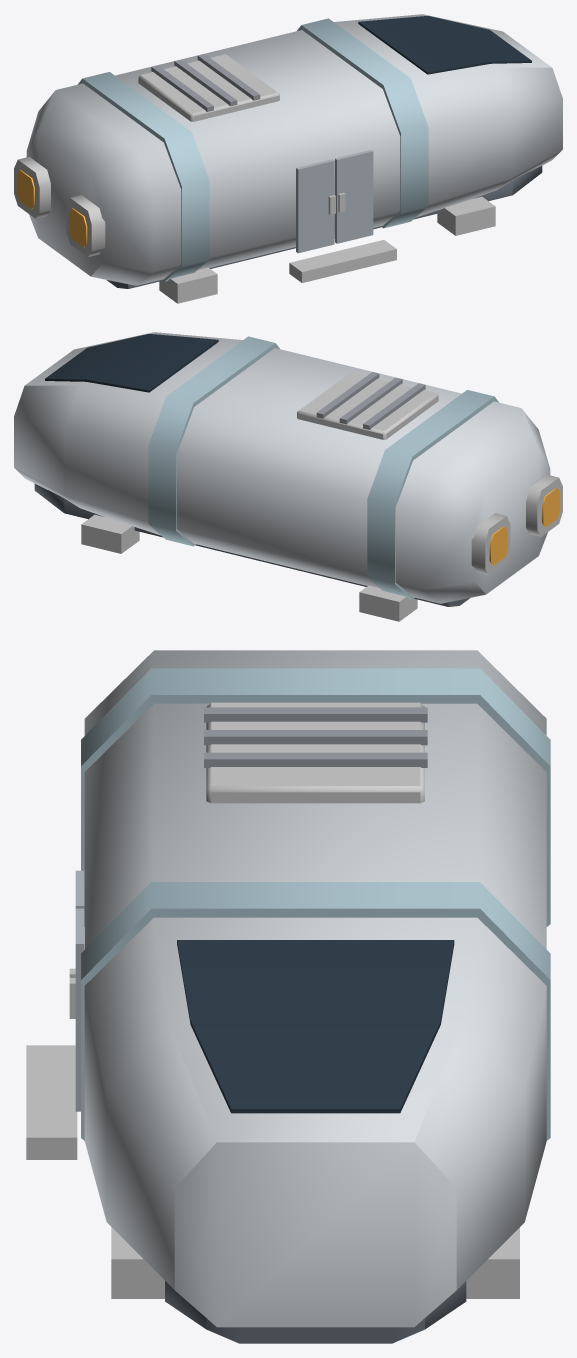
File: shuttle_imperial.obj
The picture shows the model from 3 angles, top to bottom: view 1: azimuth 30°, elevation 25°; view 2: azimuth 150°, elevation 25°; view 3: azimuth 270°, elevation 25°; orthographic projection. The views are drawn at different scales.
Parts seen in each view (by area): view 1: retained_0, retained_168, retained_140, retained_120, roof_equipment_casing, retained_244, retained_256, retained_292, retained_328, retained_304, retained_352, retained_408 (+6 smaller); view 2: retained_0, retained_168, retained_140, retained_120, roof_equipment_casing, retained_340, retained_316, retained_408, retained_352, retained_76, retained_220, retained_232 (+3 smaller); view 3: retained_0, retained_120, retained_168, retained_140, roof_equipment_casing, retained_292, retained_76, retained_208, retained_232, retained_220, retained_328, retained_340 (+1 smaller).
Boxes of the visible parts, x1=… form: retained_0: x1=26, y1=14, x2=562, y2=285; retained_168: x1=297, y1=18, x2=428, y2=228; retained_140: x1=78, y1=72, x2=209, y2=281; retained_120: x1=358, y1=16, x2=531, y2=74; roof_equipment_casing: x1=138, y1=54, x2=279, y2=121; retained_244: x1=296, y1=159, x2=334, y2=253; retained_256: x1=335, y1=150, x2=373, y2=243; retained_292: x1=289, y1=240, x2=396, y2=282; retained_328: x1=437, y1=196, x2=495, y2=235; retained_304: x1=159, y1=267, x2=217, y2=303; retained_352: x1=66, y1=195, x2=105, y2=256; retained_408: x1=14, y1=157, x2=50, y2=218; retained_0: x1=14, y1=332, x2=550, y2=603; retained_168: x1=148, y1=336, x2=279, y2=546; retained_140: x1=367, y1=390, x2=498, y2=599; retained_120: x1=45, y1=334, x2=218, y2=392; roof_equipment_casing: x1=297, y1=372, x2=438, y2=439; retained_340: x1=81, y1=514, x2=139, y2=553; retained_316: x1=359, y1=585, x2=417, y2=621; retained_408: x1=471, y1=513, x2=510, y2=574; retained_352: x1=526, y1=475, x2=562, y2=536; retained_76: x1=34, y1=484, x2=469, y2=606; retained_220: x1=339, y1=377, x2=402, y2=424; retained_232: x1=316, y1=372, x2=379, y2=418; retained_0: x1=84, y1=650, x2=546, y2=1327; retained_120: x1=177, y1=940, x2=454, y2=1113; retained_168: x1=81, y1=882, x2=550, y2=1140; retained_140: x1=81, y1=668, x2=550, y2=926; roof_equipment_casing: x1=206, y1=702, x2=424, y2=803; retained_292: x1=26, y1=1045, x2=77, y2=1159; retained_76: x1=165, y1=1281, x2=466, y2=1343; retained_208: x1=204, y1=707, x2=427, y2=722; retained_232: x1=204, y1=752, x2=427, y2=767; retained_220: x1=204, y1=730, x2=427, y2=745; retained_328: x1=111, y1=1227, x2=164, y2=1298; retained_340: x1=466, y1=1227, x2=519, y2=1298.
Bounding box in the file's own units: 4.53 × 1.51 × 2.16.
